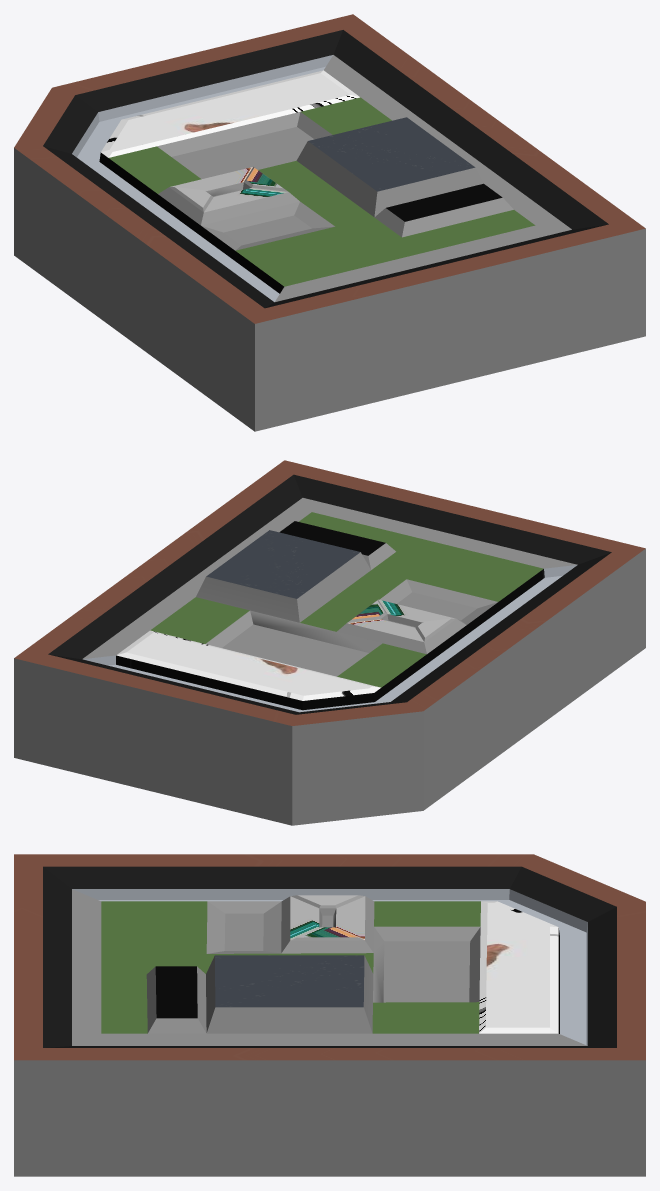
Rendered from Door_re-textured.FBX.
The picture shows the model from 3 angles, top to bottom: view 1: azimuth 30°, elevation 25°; view 2: azimuth 150°, elevation 25°; view 3: azimuth 270°, elevation 25°; orthographic projection. The views are drawn at different scales.
Parts seen in each view (by area): view 1: Box001; view 2: Box001; view 3: Box001.
Part boxes in pixels (<box>): Box001: <box>14,14,645,431</box>; Box001: <box>14,460,645,825</box>; Box001: <box>14,854,645,1176</box>.
Size of the model in its own units: 75.86 by 24.26 by 98.35.
19 materials, 10 textured.
